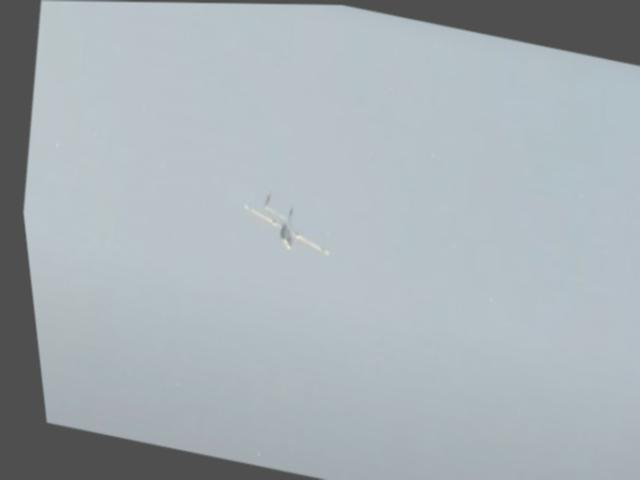iha: (219, 179, 342, 264)
